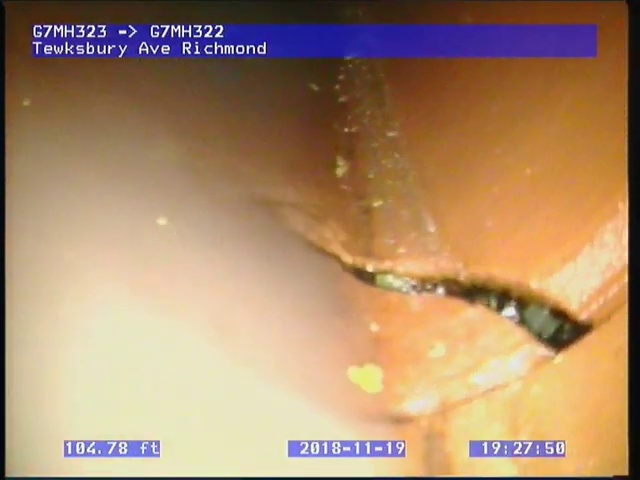crack: (299, 233, 625, 359)
